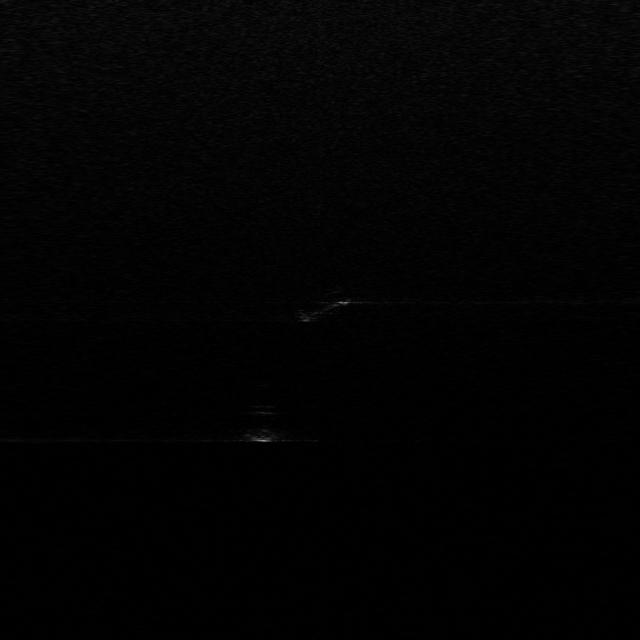ball: (237, 406, 294, 442)
tyre: (294, 286, 350, 322)
